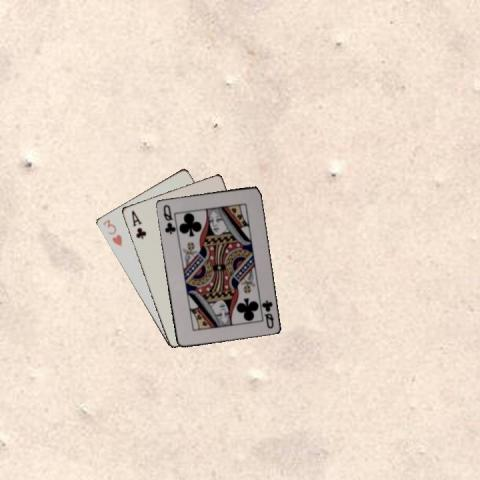3h: (100, 217, 124, 247)
Ac: (128, 207, 147, 240)
Qc: (160, 202, 176, 236), (258, 297, 274, 330)
